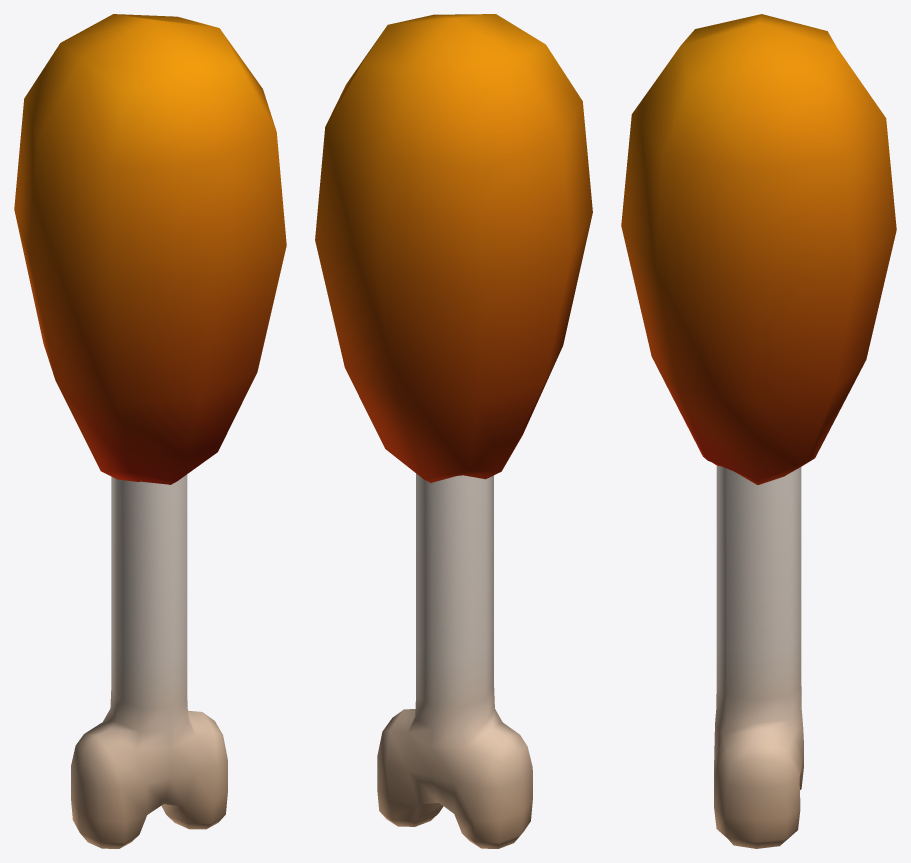
File: Tender.fbx
The picture shows the model from 3 angles, left to right: view 1: azimuth 30°, elevation 25°; view 2: azimuth 150°, elevation 25°; view 3: azimuth 270°, elevation 25°; orthographic projection.
Visible parts, largest first — view 1: Cube.141, Cube.156; view 2: Cube.141, Cube.156; view 3: Cube.141, Cube.156.
Boxes of the visible parts, <box> form: Cube.141: <box>14,14,286,484</box>; Cube.156: <box>71,474,227,848</box>; Cube.141: <box>315,14,592,483</box>; Cube.156: <box>377,473,532,848</box>; Cube.141: <box>621,14,896,484</box>; Cube.156: <box>714,465,803,848</box>.
Size of the model in its own units: 10.23 by 33.24 by 10.36.
